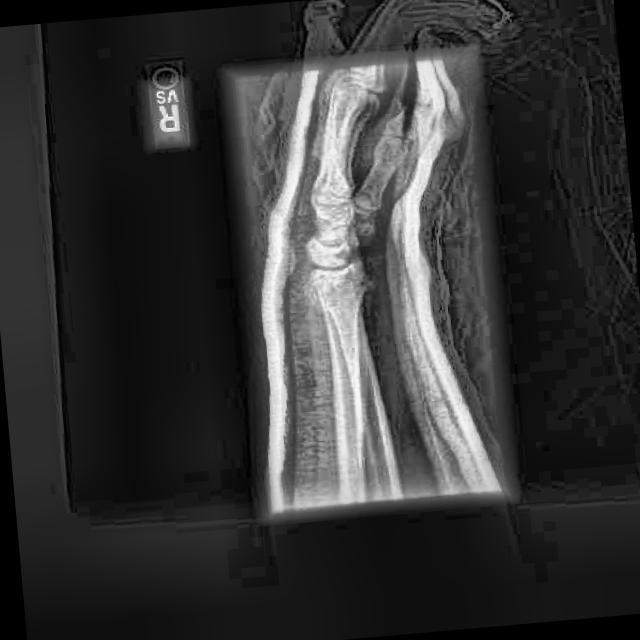fingers positive: (295, 264, 379, 315)
